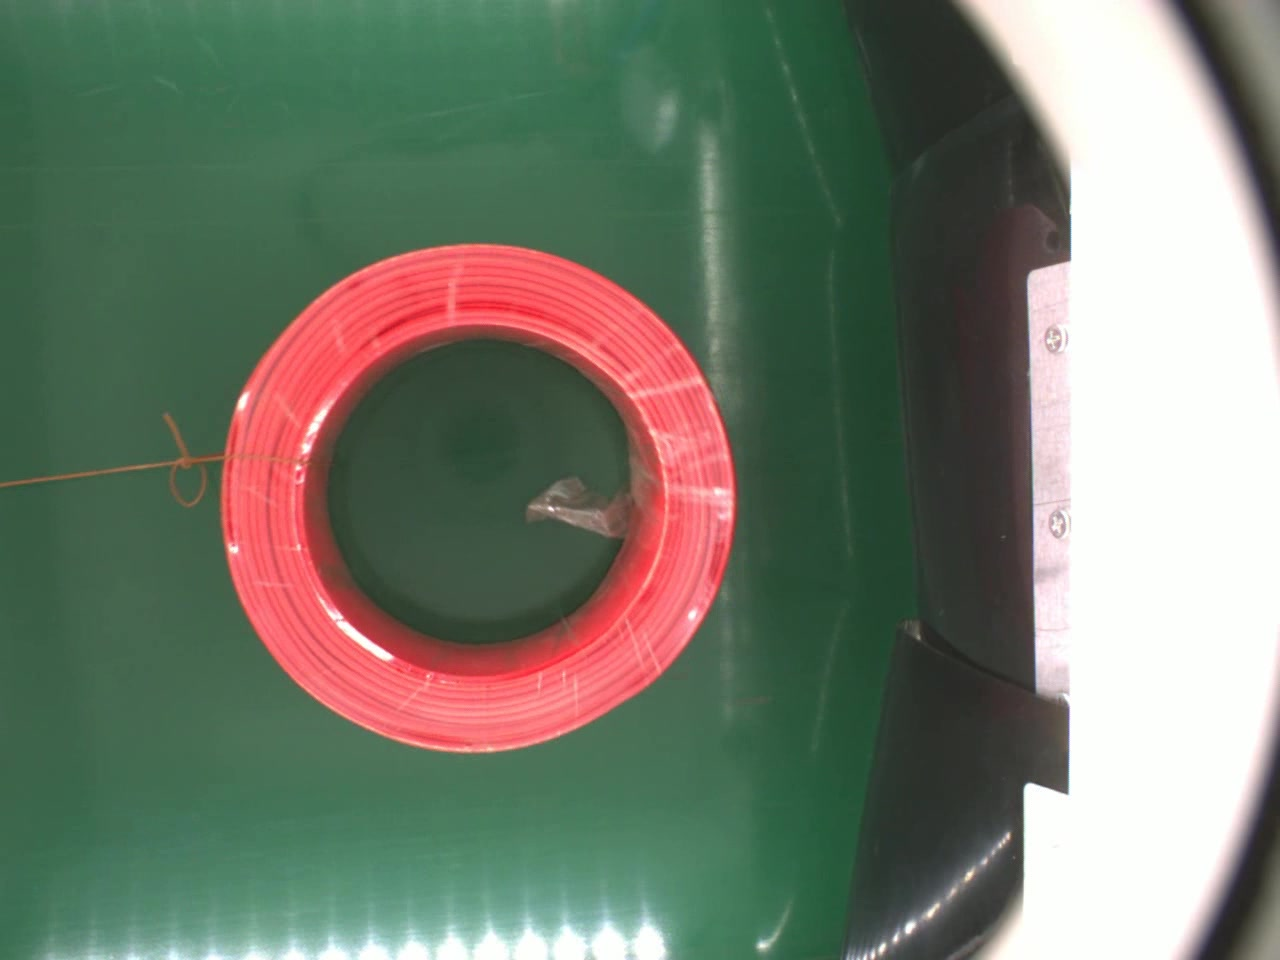red: (217, 239, 738, 759)
